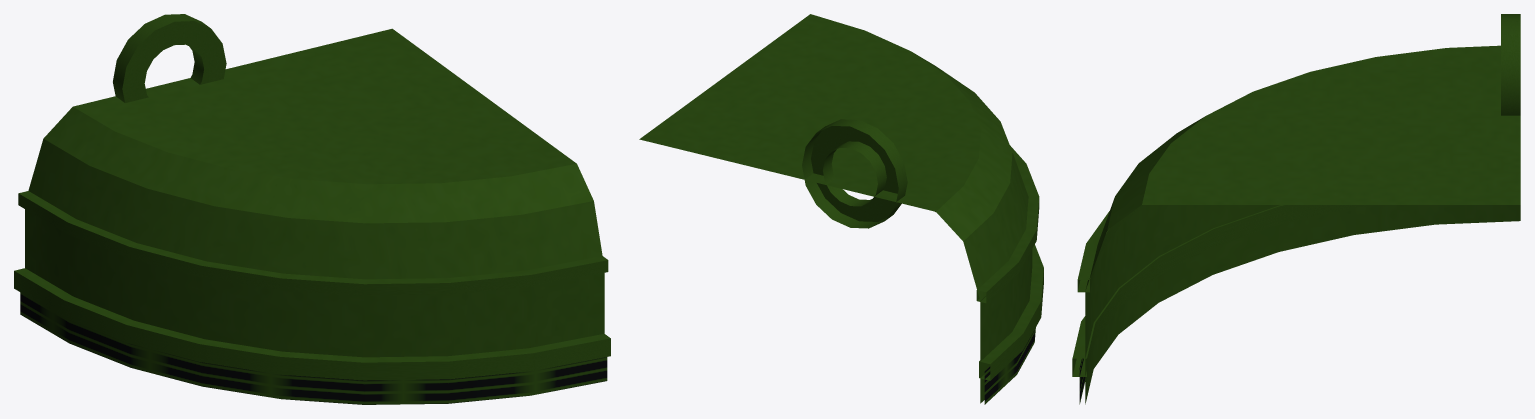
Rendered from cell_37.obj.
3 renders of one model, left to right at view 1: azimuth 30°, elevation 25°; view 2: azimuth 150°, elevation 25°; view 3: azimuth 270°, elevation 25°, orthographic. The views are drawn at different scales.
Visible parts, largest first — view 1: cell_37; view 2: cell_37; view 3: cell_37.
Boxes of the visible parts, x1,y1,x2,y2 form: cell_37: [14, 14, 610, 404]; cell_37: [639, 14, 1043, 404]; cell_37: [1072, 14, 1520, 404].
Bounding box in the file's own units: 0.7481 × 0.5 × 0.7481.
